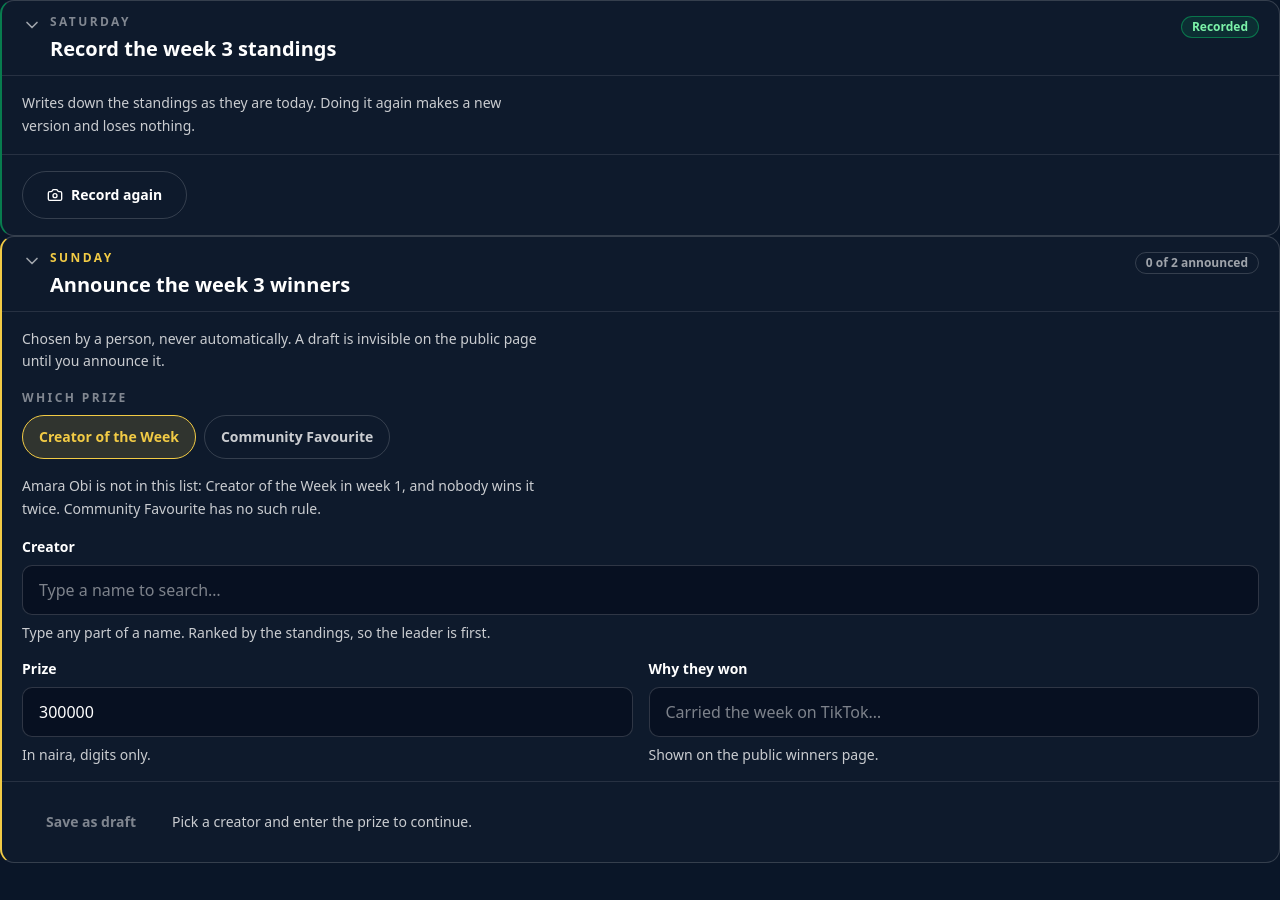
Test: who the no-repeat rule keeps out of the picker › says nothing on the Community Favourite tab
This screenshot has width=1280, height=900.
Click the button "Community Favourite" at (297, 437), box [204, 415, 390, 459]
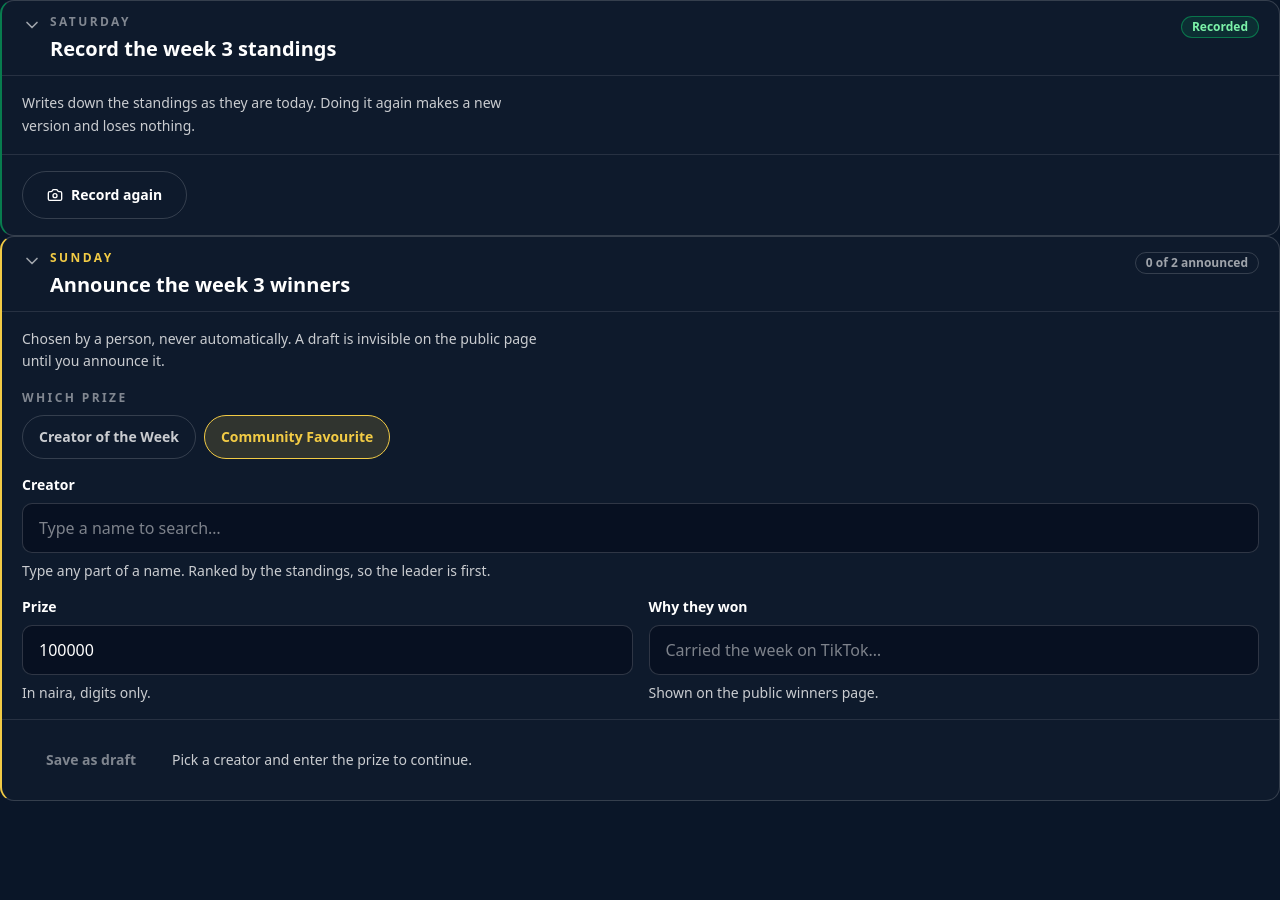
Now the text "not in this list" is gone
